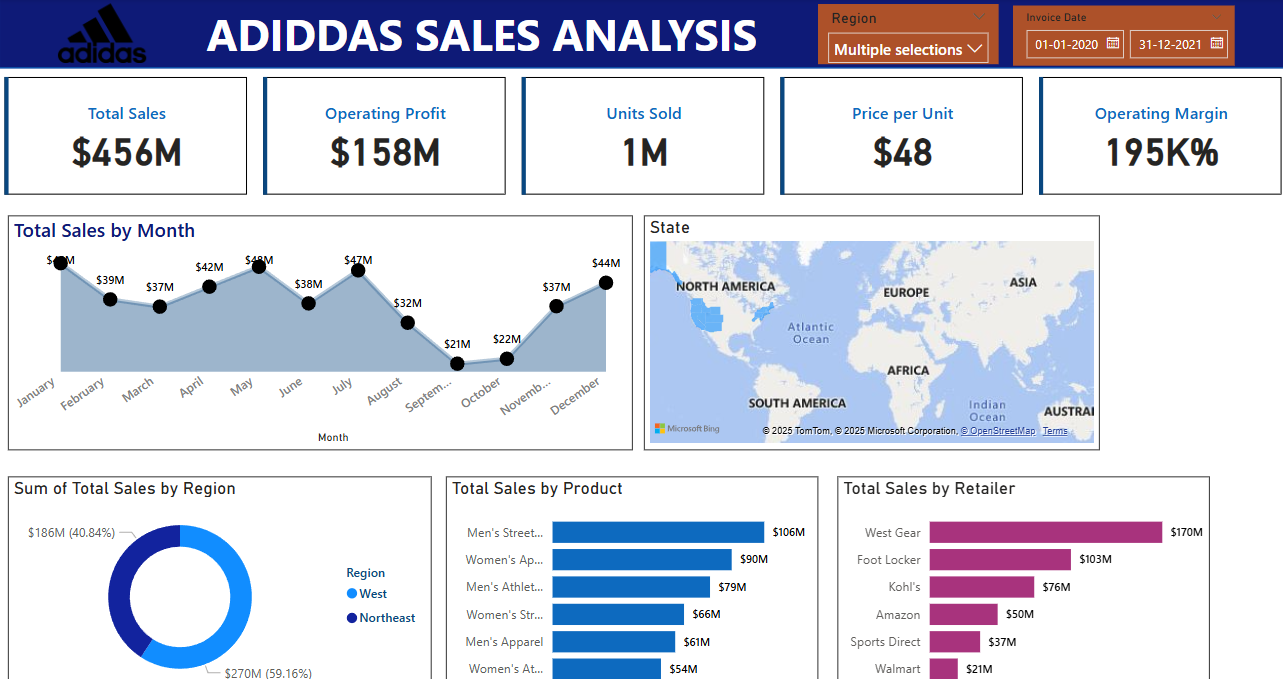

What the dashboard file says about the page in this screenshot:
{"tool":"powerbi","page":{"name":"Page 1","canvas":[1280,720],"ordinal":0},"visuals":[{"type":"shape","box":[0,0,1280,68.6],"z":0},{"type":"textbox","box":[224.1,71.2,573.9,71.2],"z":1000},{"type":"cardVisual","fields":{"Data":["Sum(Data Sales Adidas.Total Sales)","Sum(Data Sales Adidas.Operating Profit)","Sum(Data Sales Adidas.Units Sold)","Avg(Data Sales Adidas.Price per Unit)","Sum(Data Sales Adidas.Operating Margin)"]},"box":[0,71.4,1255.7,125.7],"z":2000},{"type":"areaChart","title":" Total Sales by Month","fields":{"Category":["Data Sales Adidas.Invoice Date.Variation.Date Hierarchy.Month"],"Y":["Sum(Data Sales Adidas.Total Sales)"]},"box":[8.6,211.4,608.6,228.6],"z":3000},{"type":"filledMap","fields":{"Category":["Data Sales Adidas.State"]},"box":[628.6,211.4,444.3,228.6],"z":4000},{"type":"donutChart","fields":{"Y":["Sum(Data Sales Adidas.Total Sales)"],"Category":["Data Sales Adidas.Region"]},"box":[8.6,465.7,412.9,215.7],"z":5000},{"type":"barChart","title":" Total Sales by Product","fields":{"Category":["Data Sales Adidas.Product"],"Y":["Sum(Data Sales Adidas.Total Sales)"]},"box":[435.7,465.7,362.9,215.7],"z":6000},{"type":"barChart","title":" Total Sales by Retailer","fields":{"Category":["Data Sales Adidas.Retailer"],"Y":["Sum(Data Sales Adidas.Total Sales)"]},"box":[817.1,465.7,362.9,215.7],"z":7000},{"type":"textbox","box":[175.7,0,590,71.4],"z":8000},{"type":"slicer","fields":{"Values":["Data Sales Adidas.Region"]},"box":[798.6,5.7,175.7,58.6],"z":9000},{"type":"slicer","fields":{"Values":["Data Sales Adidas.Invoice Date"]},"box":[988.6,7.1,215.7,58.6],"z":10000},{"type":"image","box":[8.6,0,182.9,68.6],"z":11000}]}

Visuals, with their boxes on the page's 1280x720 design canvas (x1, y1, x2, y2). These are canvas units, not pixel positions in the 1283x679 screenshot, which may show the page scaled, cropped or inside an application window:
shape: bbox=(0, 0, 1280, 69)
textbox: bbox=(224, 71, 798, 142)
cardVisual - Sum(Data Sales Adidas.Total Sales) x Sum(Data Sales Adidas.Operating Profit): bbox=(0, 71, 1256, 197)
" Total Sales by Month" areaChart: bbox=(9, 211, 617, 440)
filledMap - Data Sales Adidas.State: bbox=(629, 211, 1073, 440)
donutChart - Sum(Data Sales Adidas.Total Sales) x Data Sales Adidas.Region: bbox=(9, 466, 422, 681)
" Total Sales by Product" barChart: bbox=(436, 466, 799, 681)
" Total Sales by Retailer" barChart: bbox=(817, 466, 1180, 681)
textbox: bbox=(176, 0, 766, 71)
slicer - Data Sales Adidas.Region: bbox=(799, 6, 974, 64)
slicer - Data Sales Adidas.Invoice Date: bbox=(989, 7, 1204, 66)
image: bbox=(9, 0, 192, 69)
